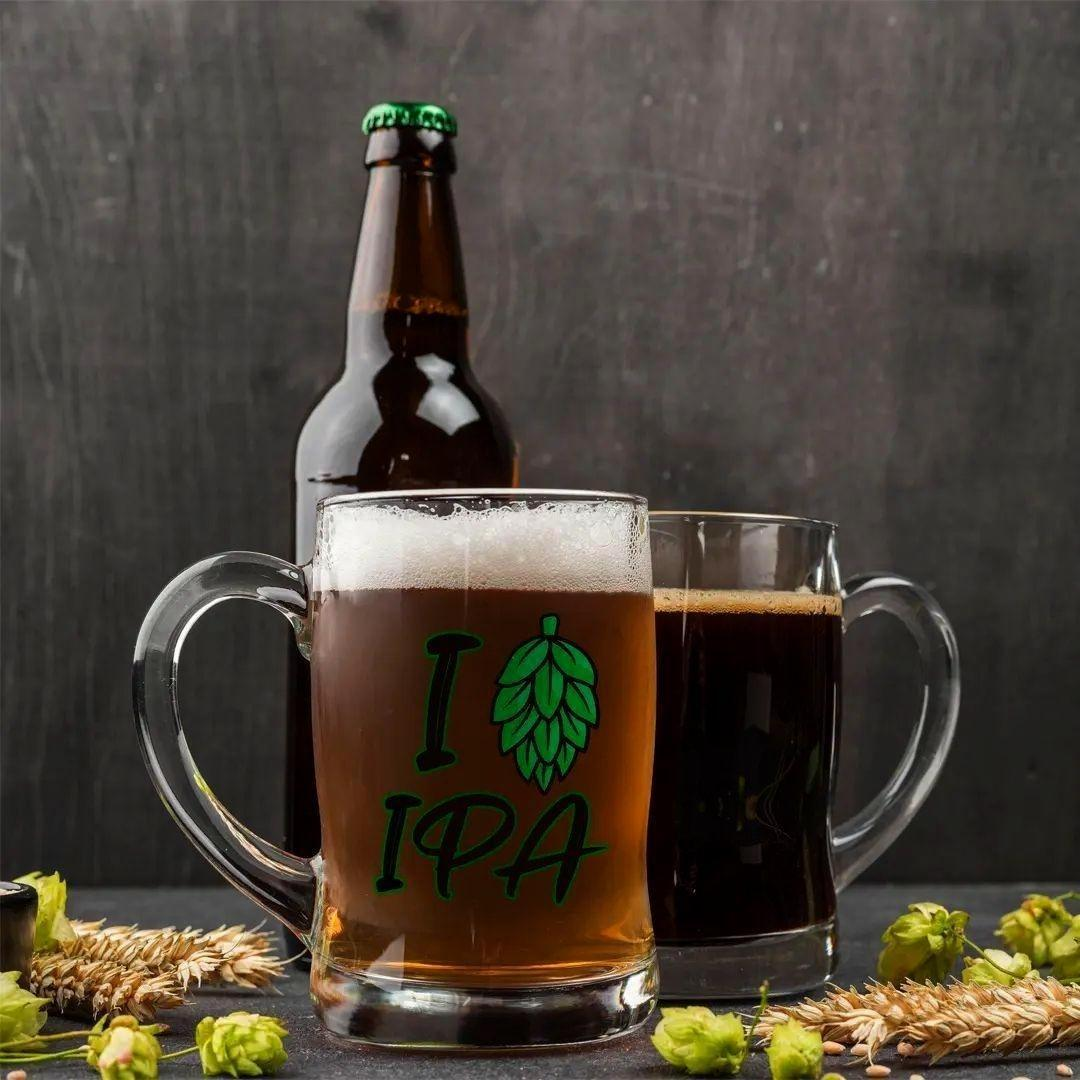bottle-glass: (295, 95, 534, 472)
glass-mug: (117, 476, 679, 1069), (661, 494, 971, 1001)
